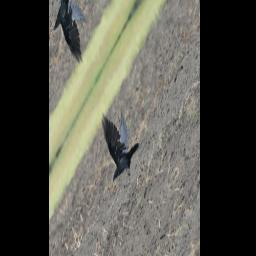Crow: (91, 84, 143, 200)
